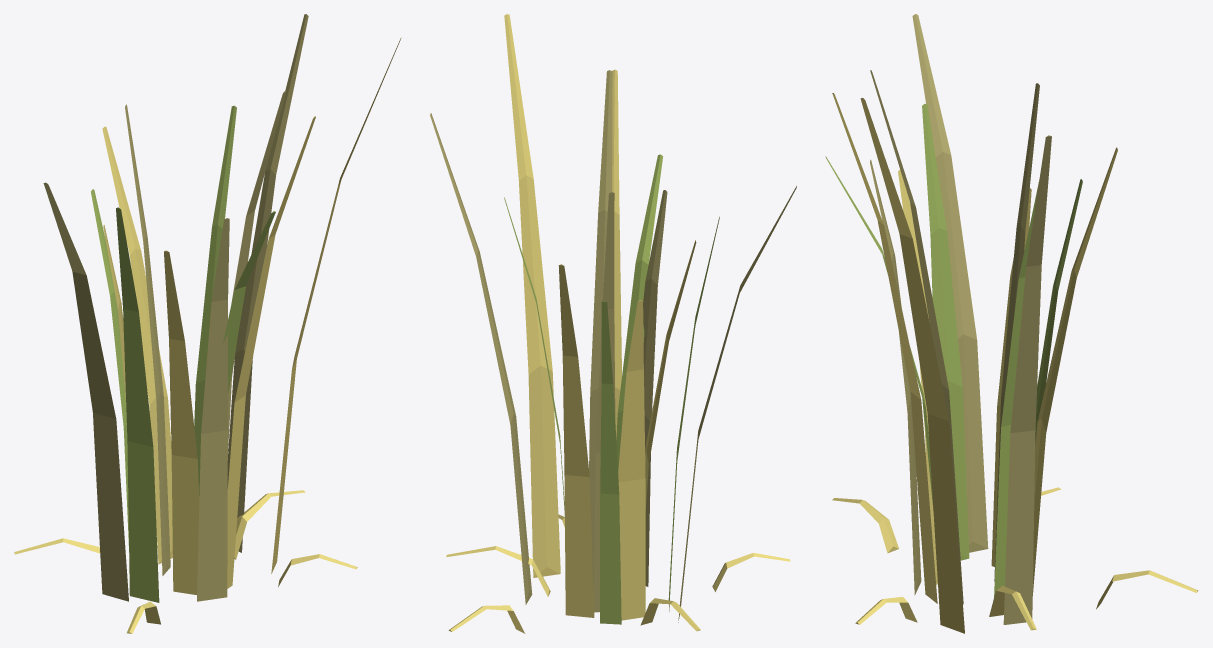
File: fibre_plant.glb
3 views of the same model, side by side, from view 1: azimuth 30°, elevation 25°; view 2: azimuth 150°, elevation 25°; view 3: azimuth 270°, elevation 25° (orthographic). The views are drawn at different scales.
Parts seen in each view (by area): view 1: fibre_plant.001; view 2: fibre_plant.001; view 3: fibre_plant.001.
Boxes of the visible parts, x1,y1,x2,y2 form: fibre_plant.001: [14, 14, 401, 633]; fibre_plant.001: [430, 14, 796, 633]; fibre_plant.001: [825, 14, 1198, 633].
Size of the model in its own units: 0.5668 by 0.88 by 0.517.
